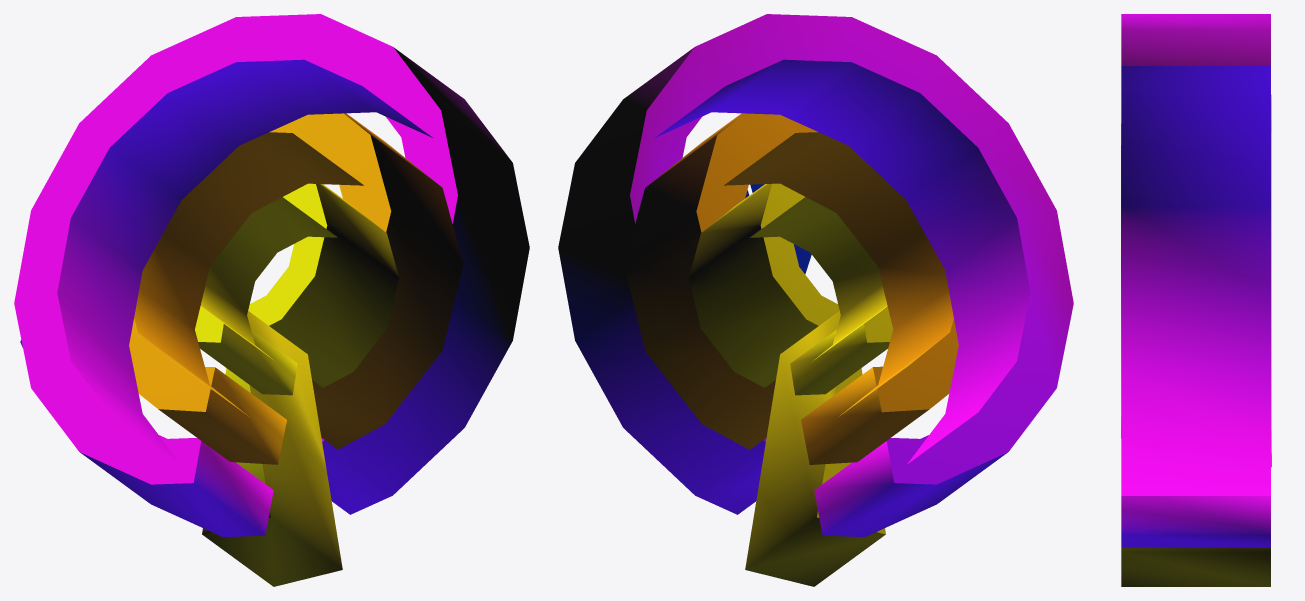
Rendered from ps2_save-icons_futarinofantavision.glb.
The picture shows the model from 3 angles, left to right: view 1: azimuth 30°, elevation 25°; view 2: azimuth 150°, elevation 25°; view 3: azimuth 270°, elevation 25°; orthographic projection. The views are drawn at different scales.
Parts seen in each view (by area): view 1: fanta1.ico; view 2: fanta1.ico; view 3: fanta1.ico.
Part boxes in pixels (box(x1,y1,x2,y2)): fanta1.ico: box(14, 14, 529, 586); fanta1.ico: box(558, 14, 1073, 586); fanta1.ico: box(1121, 14, 1271, 586).
Bounding box in the file's own units: 4.21 × 4.61 × 1.48.
Materials: 1 (1 with a texture image).
